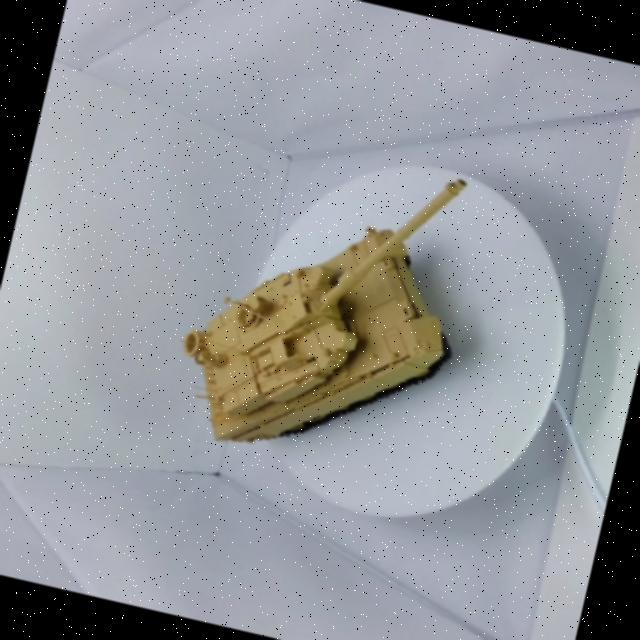korea tank: (136, 89, 522, 516)
